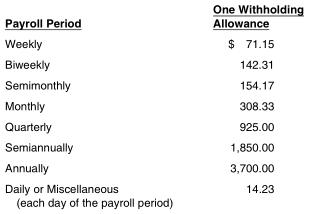table: (4, 3, 303, 208)
table column: (4, 3, 192, 208), (192, 3, 303, 208)
table column header: (4, 3, 303, 33)
table row: (4, 3, 303, 33), (4, 178, 303, 208), (4, 33, 303, 54), (4, 74, 303, 95), (4, 95, 303, 116), (4, 116, 303, 137), (4, 157, 303, 178), (4, 54, 303, 74), (4, 137, 303, 157)
